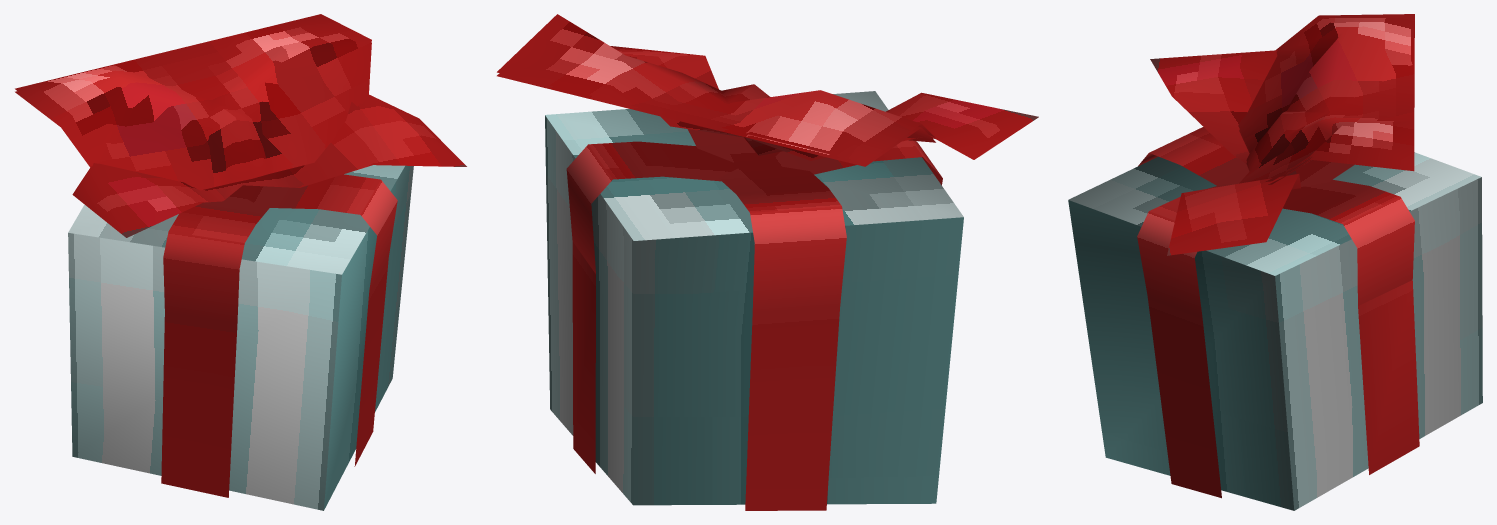
File: fg_present.dae
3 renders of one model, left to right at view 1: azimuth 30°, elevation 25°; view 2: azimuth 150°, elevation 25°; view 3: azimuth 270°, elevation 25°, orthographic. The views are drawn at different scales.
Visible parts, largest first — view 1: fg_present; view 2: fg_present; view 3: fg_present.
Boxes of the visible parts, x1,y1,x2,y2 form: fg_present: (15, 14, 466, 510); fg_present: (497, 14, 1038, 510); fg_present: (1068, 14, 1482, 510).
Size of the model in its own units: 14.14 by 14.28 by 14.06.
Materials: 1 (1 with a texture image).
